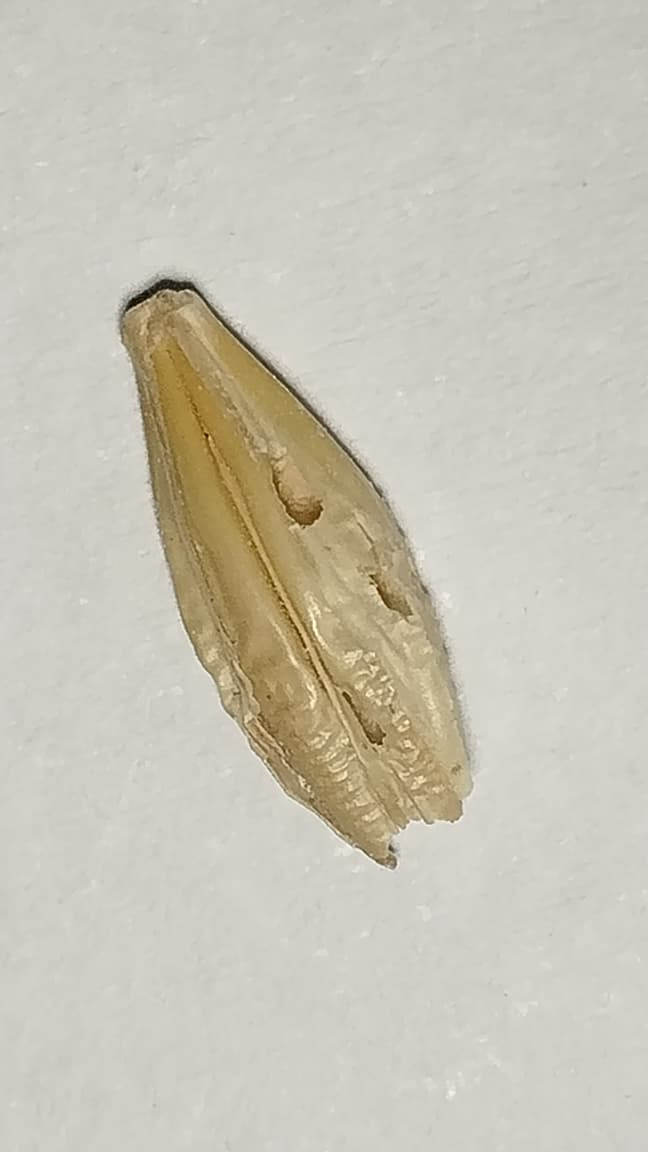damage: (121, 281, 473, 867)
insectdamage: (258, 439, 324, 537), (365, 569, 418, 627), (343, 703, 385, 758)
shriveledseed: (199, 621, 385, 774)
